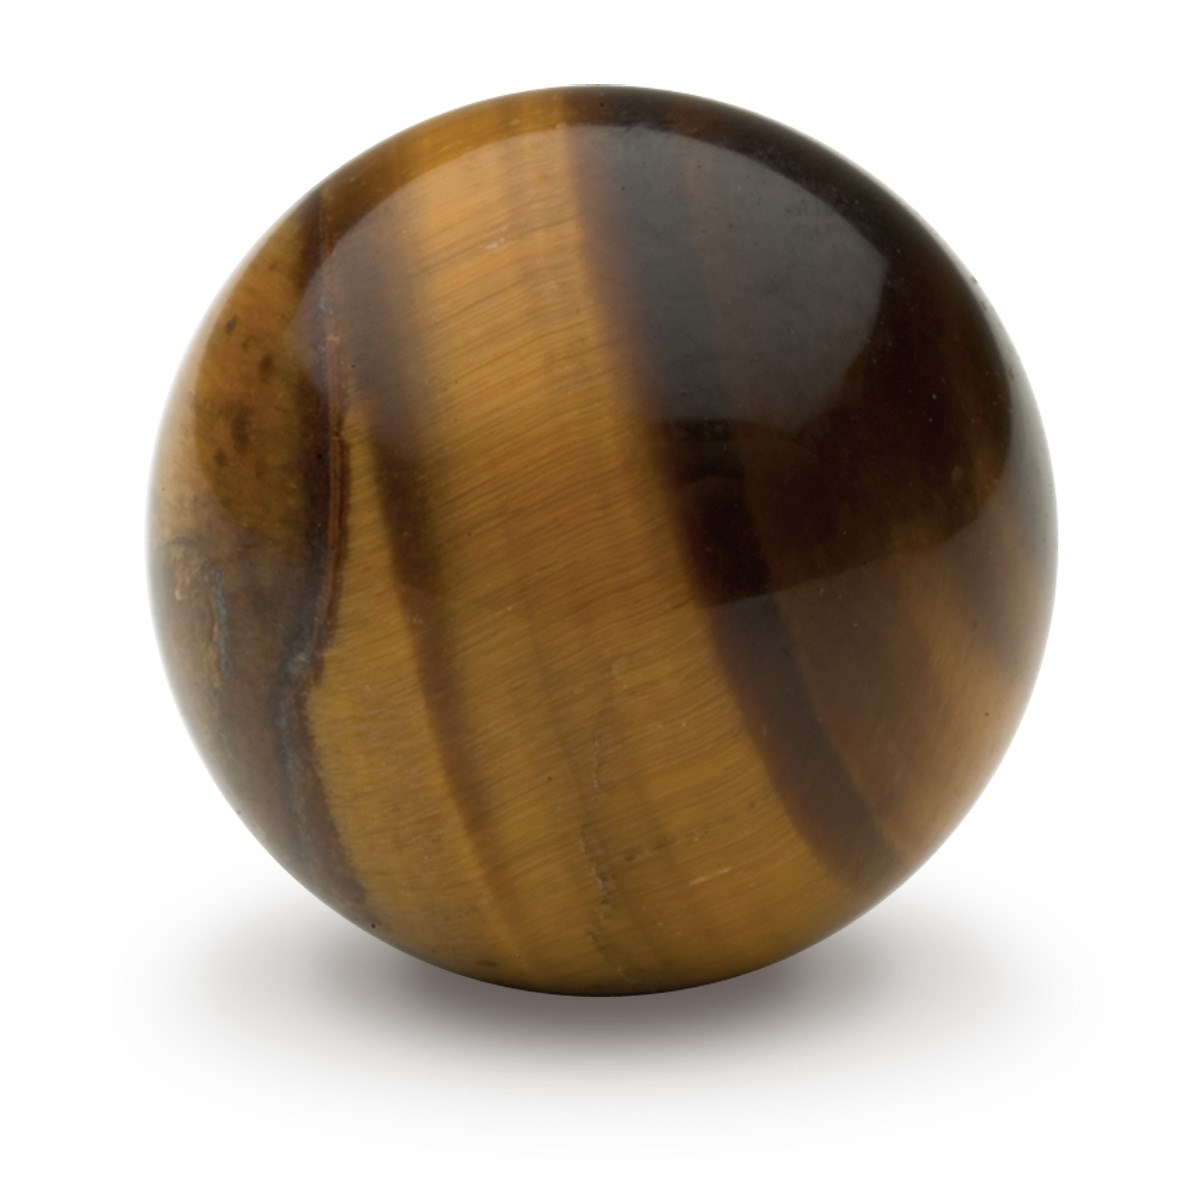Tigers_Eye: (145, 88, 1060, 997)
